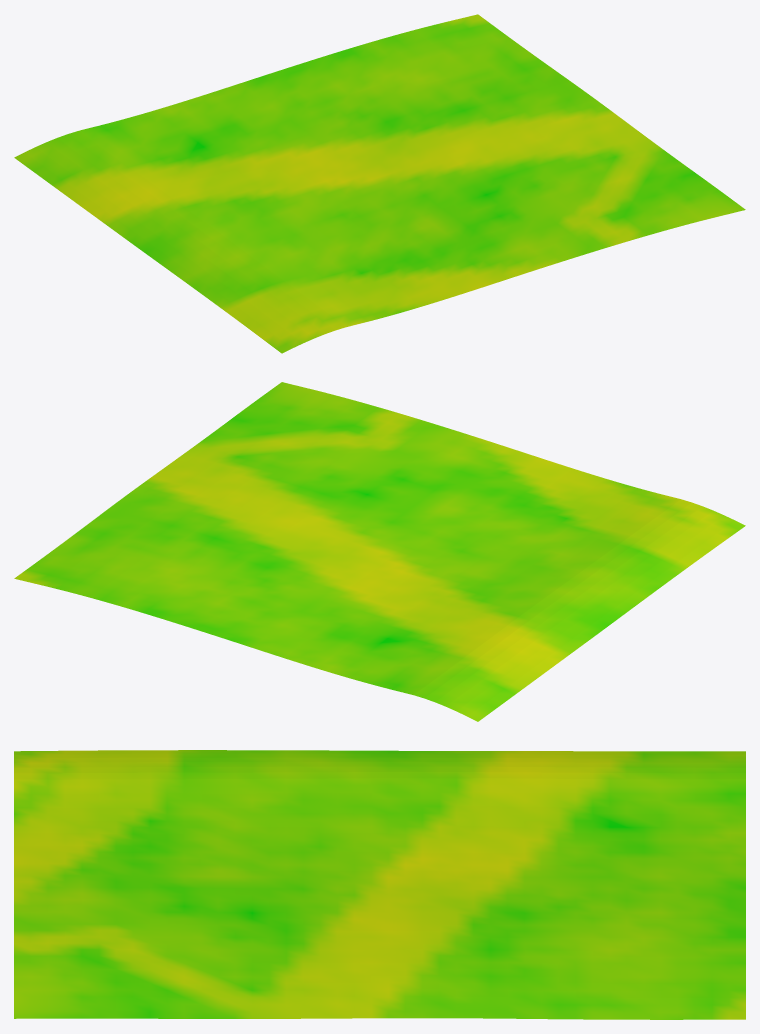
Rendered from terrain_3_0.glb.
3 views of the same model, one above another, from view 1: azimuth 30°, elevation 25°; view 2: azimuth 150°, elevation 25°; view 3: azimuth 270°, elevation 25° (orthographic). The views are drawn at different scales.
Visible parts, largest first — view 1: terrain_3_0; view 2: terrain_3_0; view 3: terrain_3_0.
Boxes of the visible parts, x1,y1,x2,y2 form: terrain_3_0: (14, 14, 745, 353); terrain_3_0: (14, 382, 745, 721); terrain_3_0: (14, 750, 745, 1019).
Bounding box in the file's own units: 85 × 5.44 × 85.
